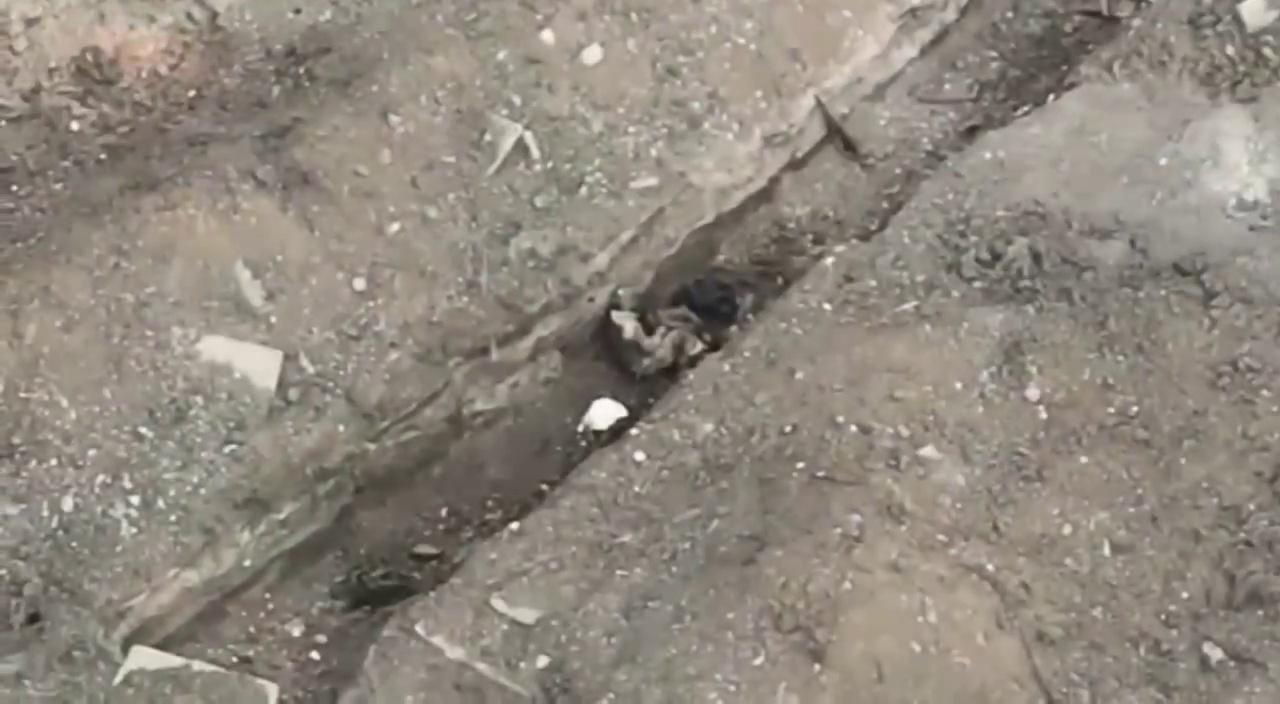person: (604, 296, 710, 381)
